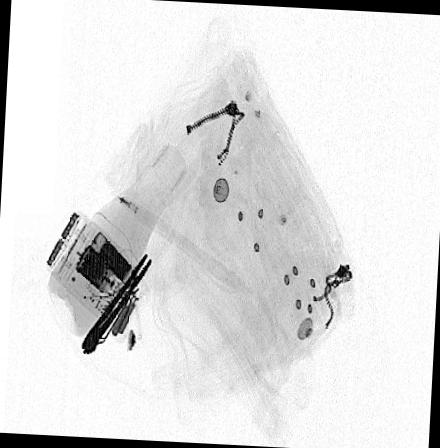Knife: (77, 250, 155, 360)
